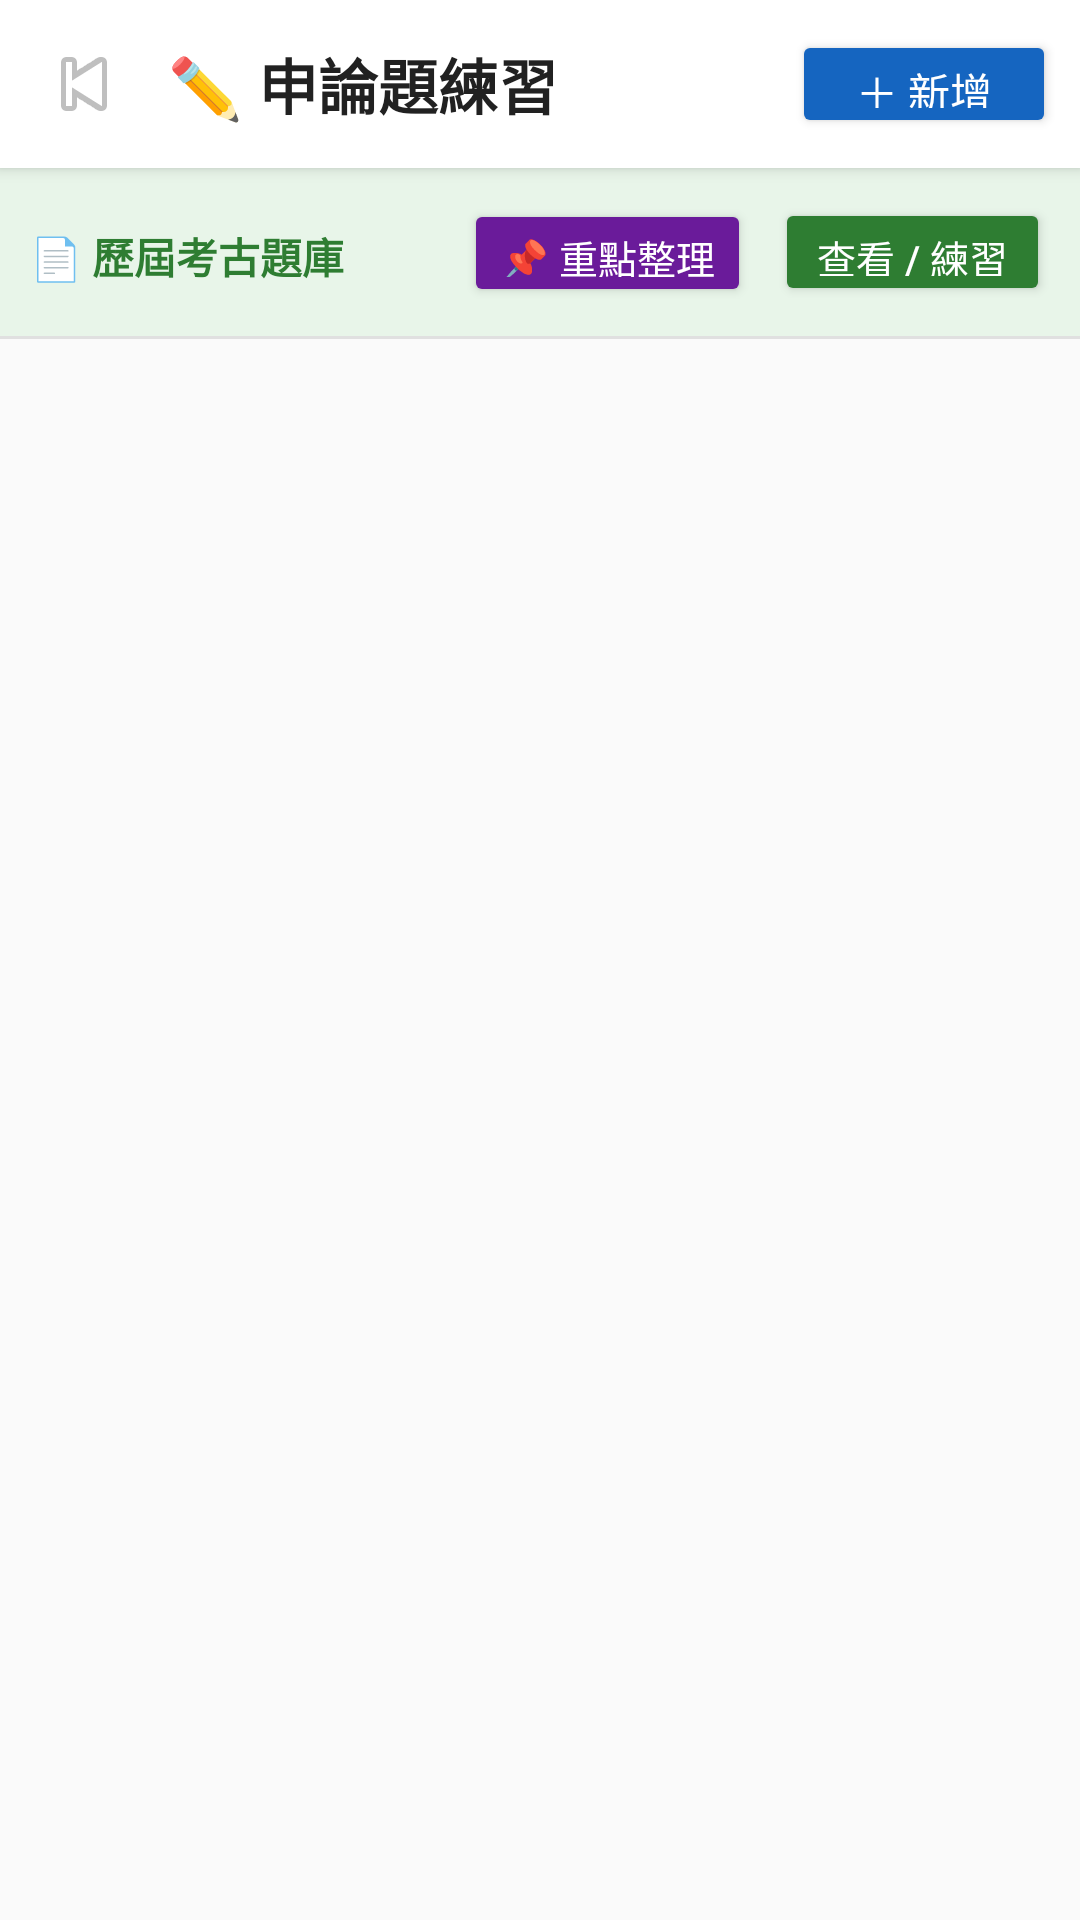

Icon bounding boxes for this 1080 × 1920 phone screenshot, format (x1, y1, x2, y2):
返回: (61, 57, 107, 111)
